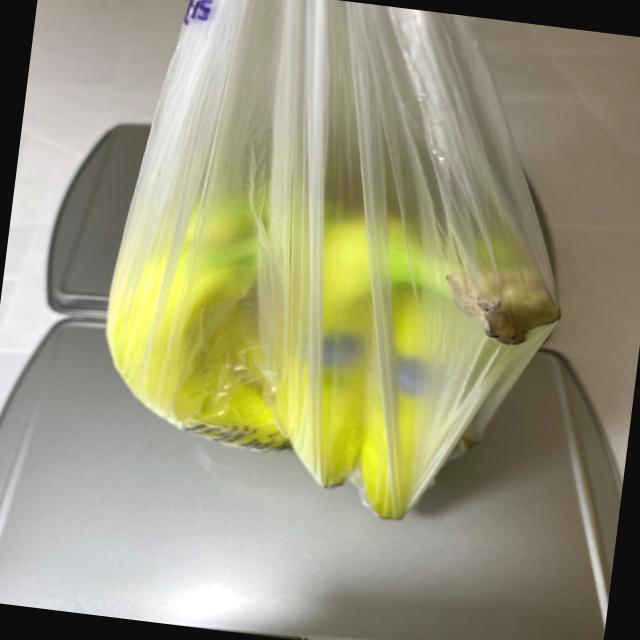banana: (78, 123, 577, 542)
